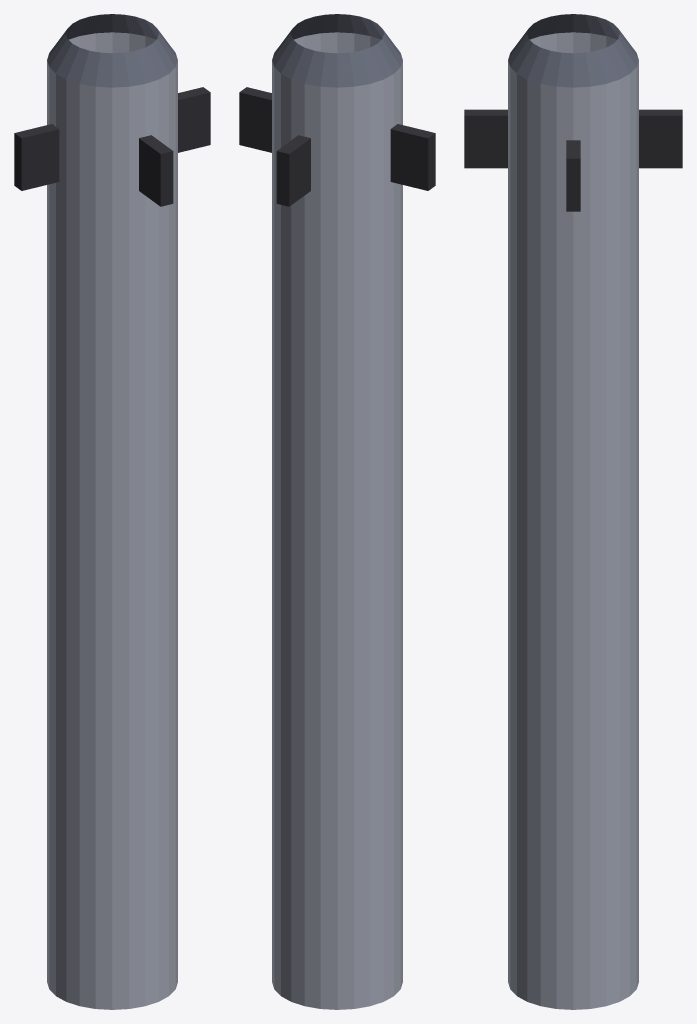
The model's file is superheavy.dae.
3 views of the same model, side by side, from view 1: azimuth 30°, elevation 25°; view 2: azimuth 150°, elevation 25°; view 3: azimuth 270°, elevation 25° (orthographic).
Visible parts, largest first — view 1: superheavy; view 2: superheavy; view 3: superheavy.
Part boxes in pixels (x1,y1,x2,y2): superheavy: (14,14,210,1009); superheavy: (239,14,435,1009); superheavy: (464,14,682,1009).
Bounding box in the file's own units: 15 × 15 × 72.
